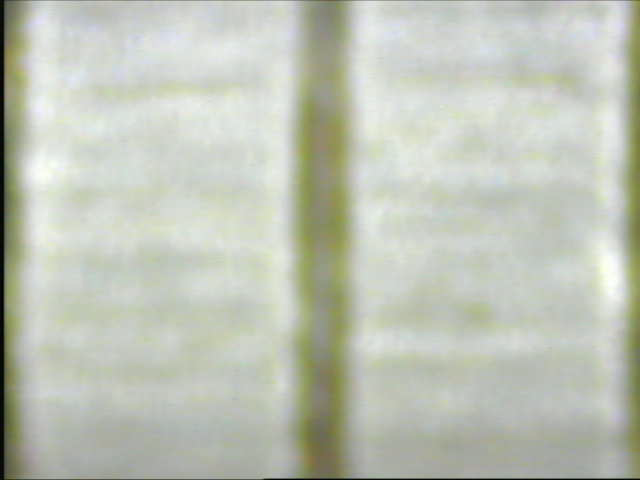line: (287, 1, 360, 466)
